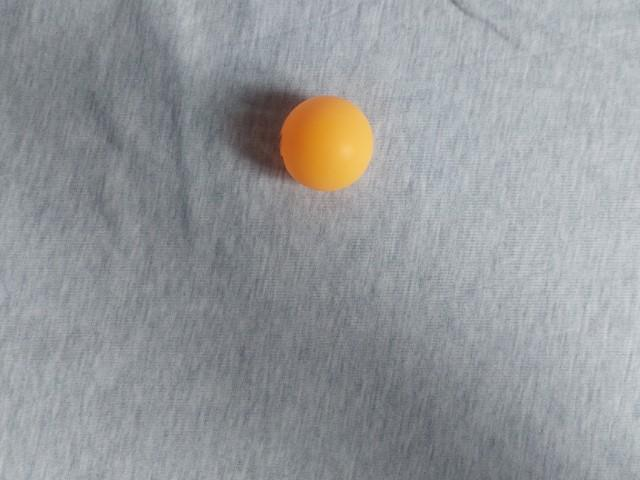oball: (256, 281, 366, 390)
